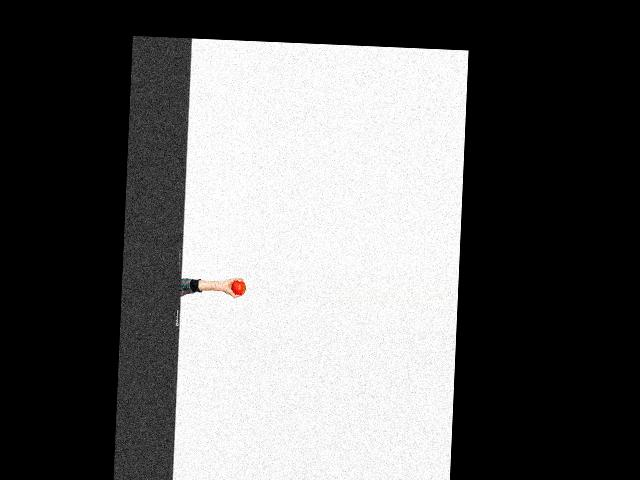tomato: (231, 280, 246, 295)
